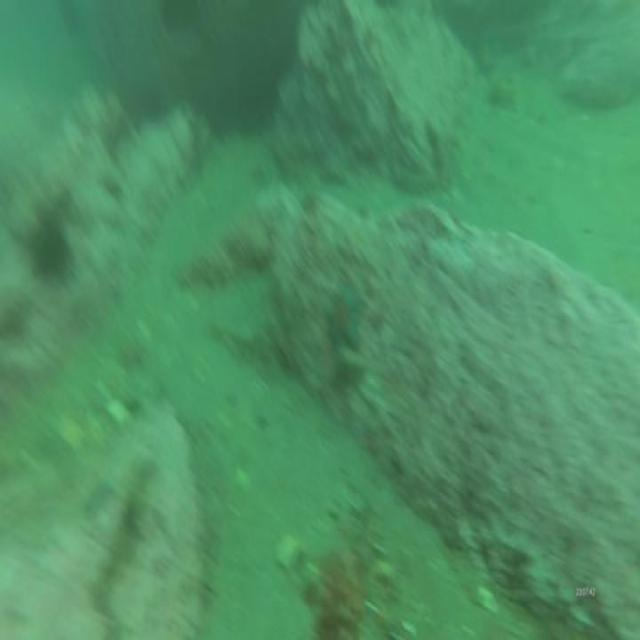echinus: (29, 213, 72, 283)
starfish: (322, 280, 368, 354)
